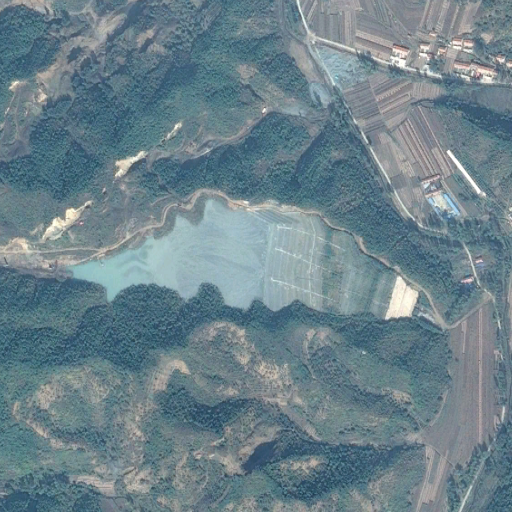tp: (68, 197, 417, 317)
